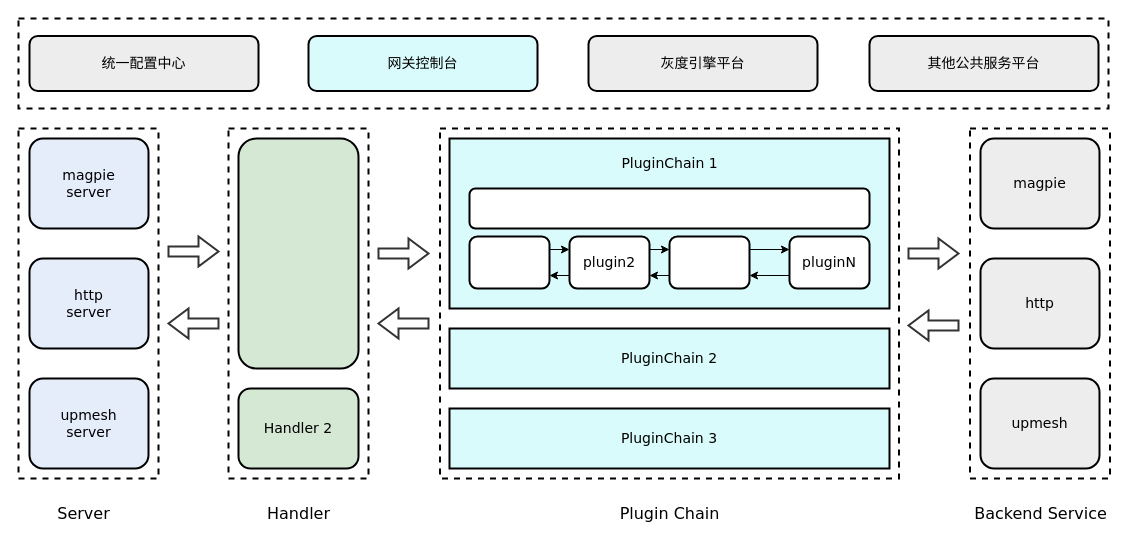
Image size: 1137x545. Some labels were removed from this diagram. Here are the shapes that lost their labels. From the top down, the centre of each, then its label:
At pixel 669 208: "context".
At pixel 298 253: "Handler 1 Request Init PluginChain Selector".
At pixel 509 262: "plugin1".
At pixel 709 262: "plugin3".
